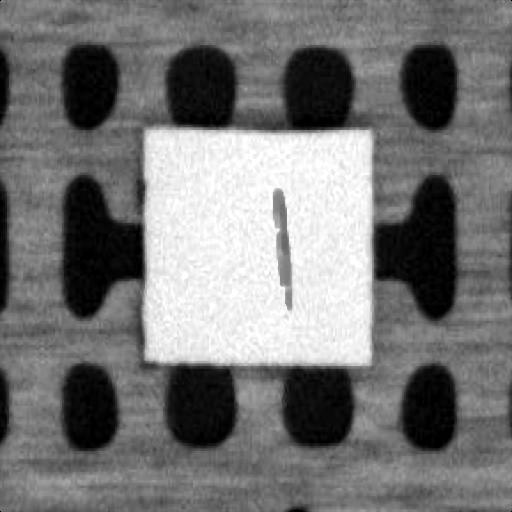DIE_INK: (266, 180, 292, 310)
